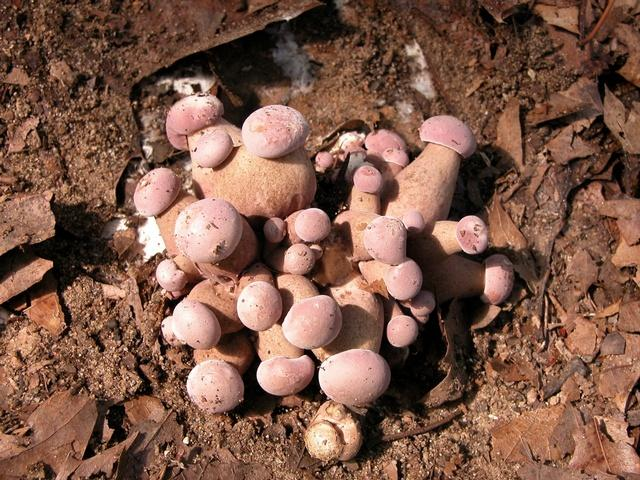Non-edible Mushroom: (113, 75, 535, 468)
